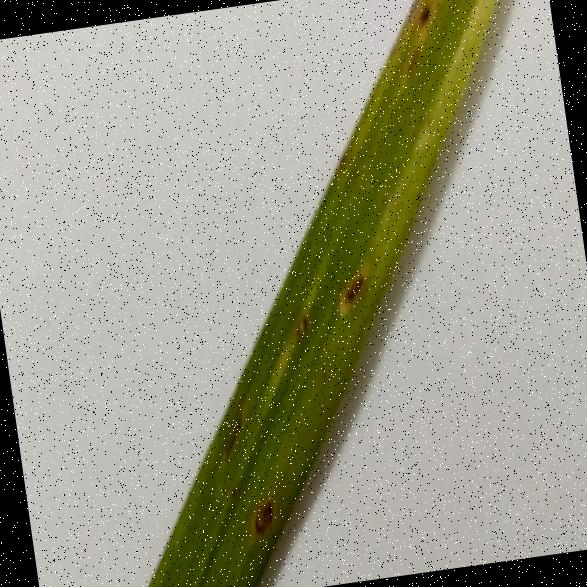Leaf_smut: (239, 481, 284, 545), (330, 259, 371, 318), (404, 0, 435, 29)
